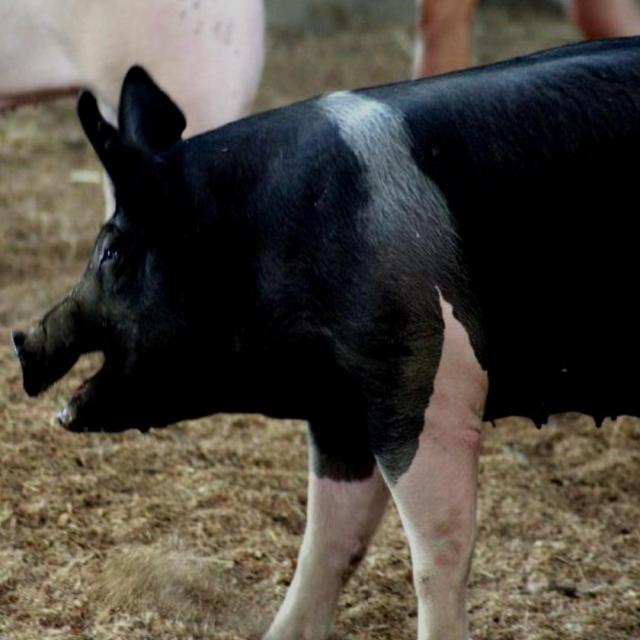pig: (14, 39, 640, 636), (0, 0, 265, 134)
